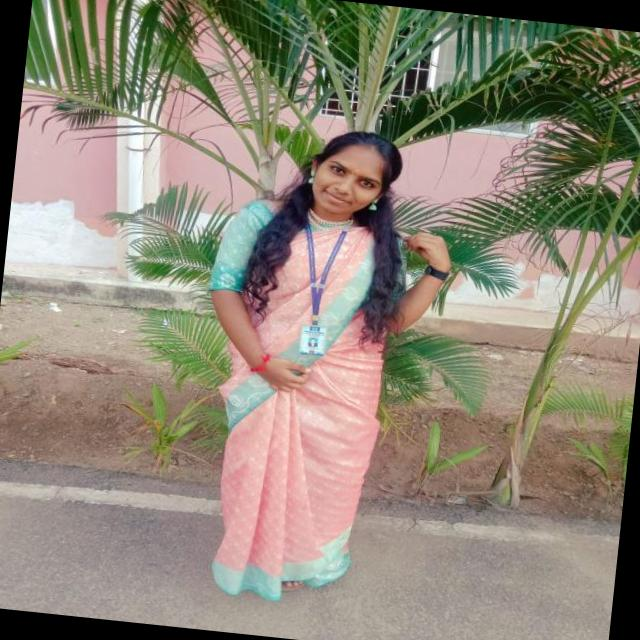id_card: (294, 208, 343, 354)
